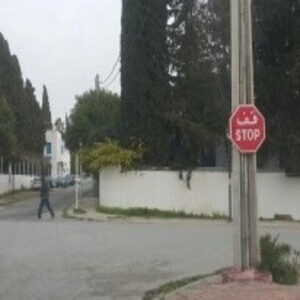stop: (229, 103, 265, 154)
